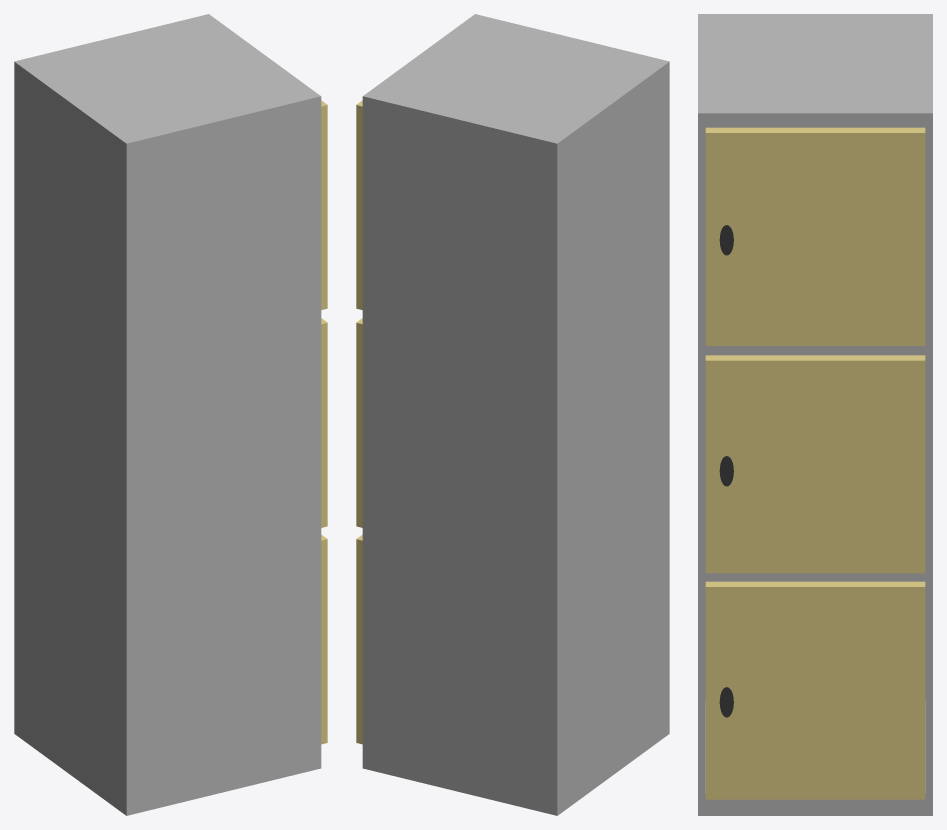
Rendered from Locker.fbx.
3 renders of one model, left to right at view 1: azimuth 30°, elevation 25°; view 2: azimuth 150°, elevation 25°; view 3: azimuth 270°, elevation 25°, orthographic. The views are drawn at different scales.
Visible parts, largest first — view 1: Cube, Cube.001, Cube.002, Cube.003, Cube.004, Cube.005; view 2: Cube, Cube.002, Cube.001, Cube.003, Cube.004, Cube.005; view 3: Cube.004, Cube.005, Cube.003, Cube, Cube.002, Cube.001.
Part boxes in pixels (x1,y1,x2,y2): Cube: (14,14,321,815); Cube.001: (17,498,122,590); Cube.002: (17,281,122,372); Cube.003: (321,534,327,744); Cube.004: (321,318,327,527); Cube.005: (321,100,327,309); Cube: (362,14,669,815); Cube.002: (561,280,666,373); Cube.001: (561,498,666,590); Cube.003: (356,534,362,744); Cube.004: (356,318,362,527); Cube.005: (356,100,362,309); Cube.004: (705,355,925,573); Cube.005: (705,127,925,345); Cube.003: (705,581,925,799); Cube: (698,14,932,815); Cube.002: (705,346,925,355); Cube.001: (705,573,925,581).
Bounding box in the file's own units: 212 × 660 × 200.
